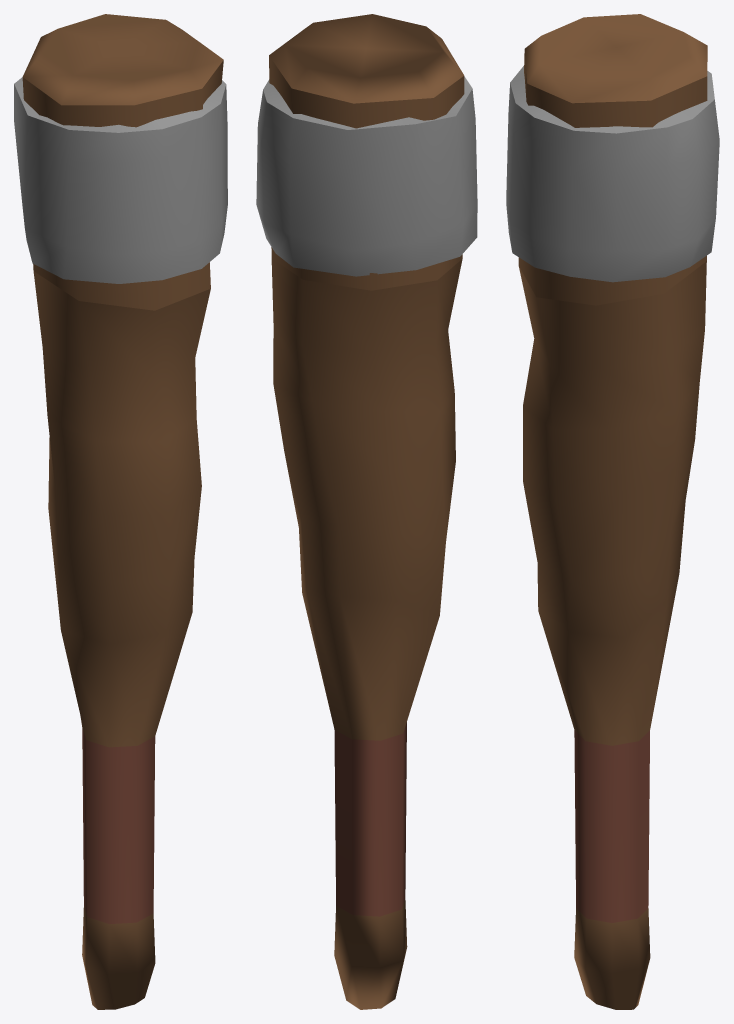
The model's file is Club.fbx.
The picture shows the model from 3 angles, left to right: view 1: azimuth 30°, elevation 25°; view 2: azimuth 150°, elevation 25°; view 3: azimuth 270°, elevation 25°; orthographic projection.
Visible parts, largest first — view 1: Club; view 2: Club; view 3: Club.
Part boxes in pixels (<box>): Club: <box>14,14,227,1009</box>; Club: <box>256,14,477,1009</box>; Club: <box>506,14,719,1009</box>.
Size of the model in its own units: 4.32 by 21.2 by 4.27.
1 material, 1 textured.
